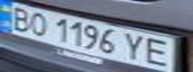1: (48, 16, 72, 44), (66, 19, 84, 47)
6: (100, 26, 121, 56)
9: (78, 22, 103, 52)
B: (3, 3, 36, 33)
E: (142, 36, 178, 68)
O: (24, 9, 51, 37)
Y: (121, 30, 148, 62)
